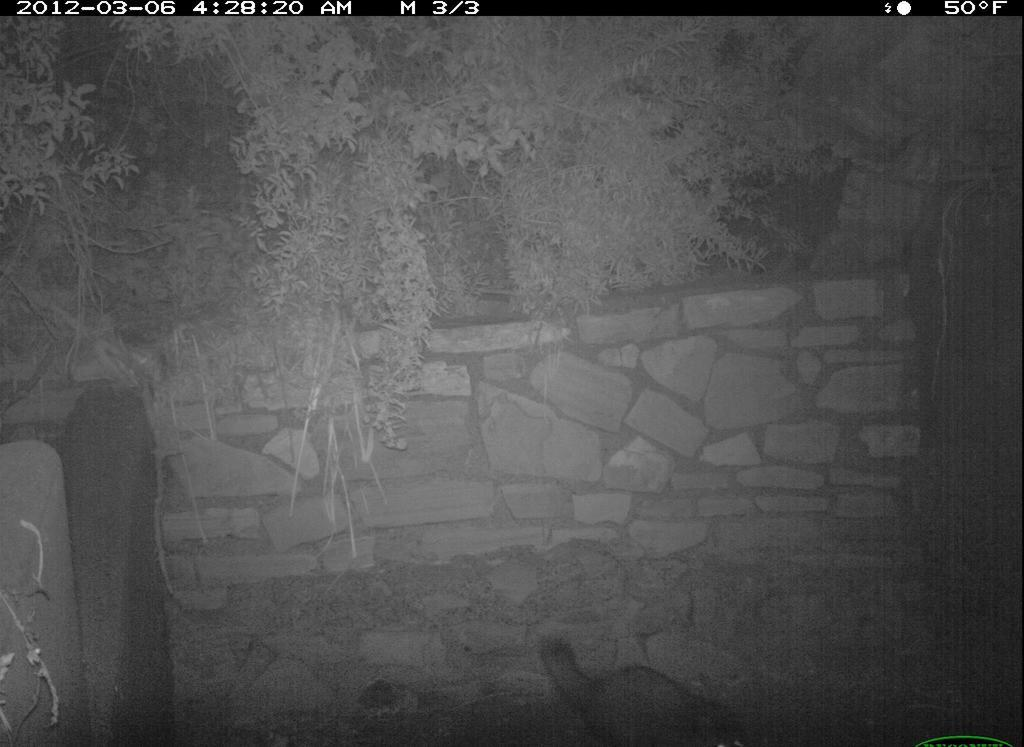raccoon: (525, 626, 766, 747)
